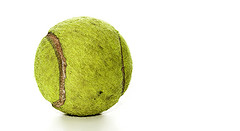tennis ball: (33, 16, 133, 117)
